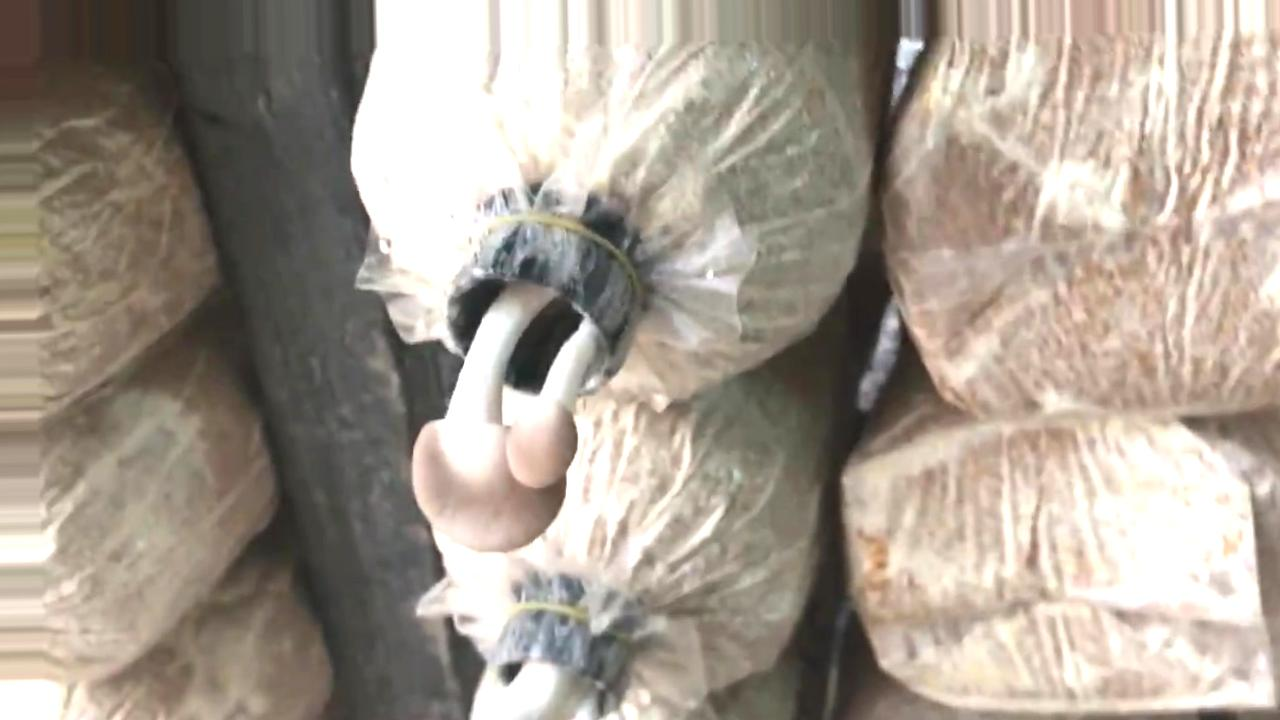nam: (413, 211, 645, 549)
